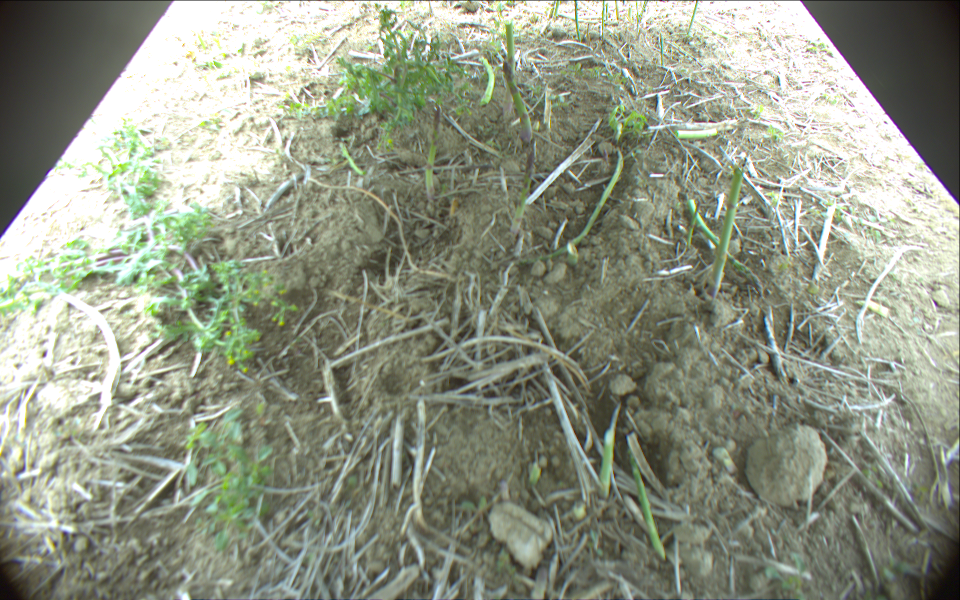aspa: (531, 148, 625, 262), (688, 198, 764, 292), (707, 163, 745, 301), (504, 22, 533, 142), (633, 461, 665, 560), (508, 149, 536, 235), (425, 106, 442, 197), (597, 430, 615, 497), (476, 57, 496, 106), (573, 1, 584, 44), (672, 127, 716, 137), (689, 1, 698, 32), (658, 33, 665, 69), (600, 1, 607, 34), (613, 1, 623, 22), (551, 1, 560, 19), (639, 1, 646, 24), (587, 22, 593, 42), (605, 1, 608, 22), (636, 1, 639, 21)
